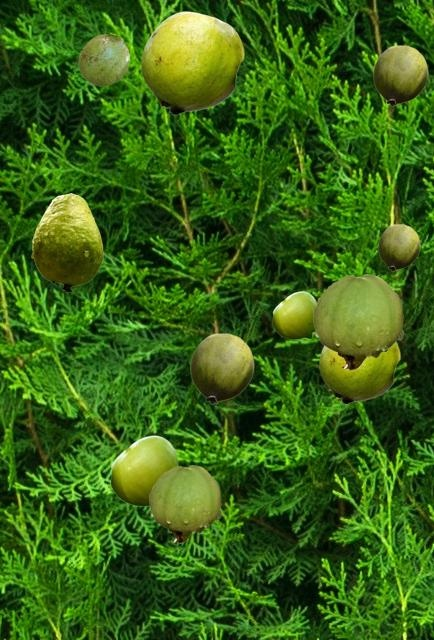guava: (141, 11, 243, 114), (313, 274, 402, 369), (31, 193, 102, 291), (149, 465, 220, 542), (319, 342, 399, 403), (110, 435, 177, 505), (190, 333, 253, 403), (373, 45, 427, 105), (78, 34, 128, 85), (272, 291, 316, 338), (378, 224, 419, 270)
